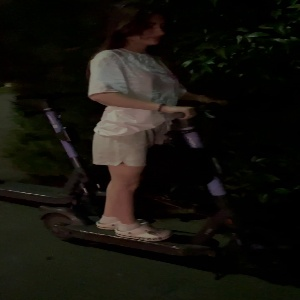human on a scooter: (38, 2, 281, 274)
